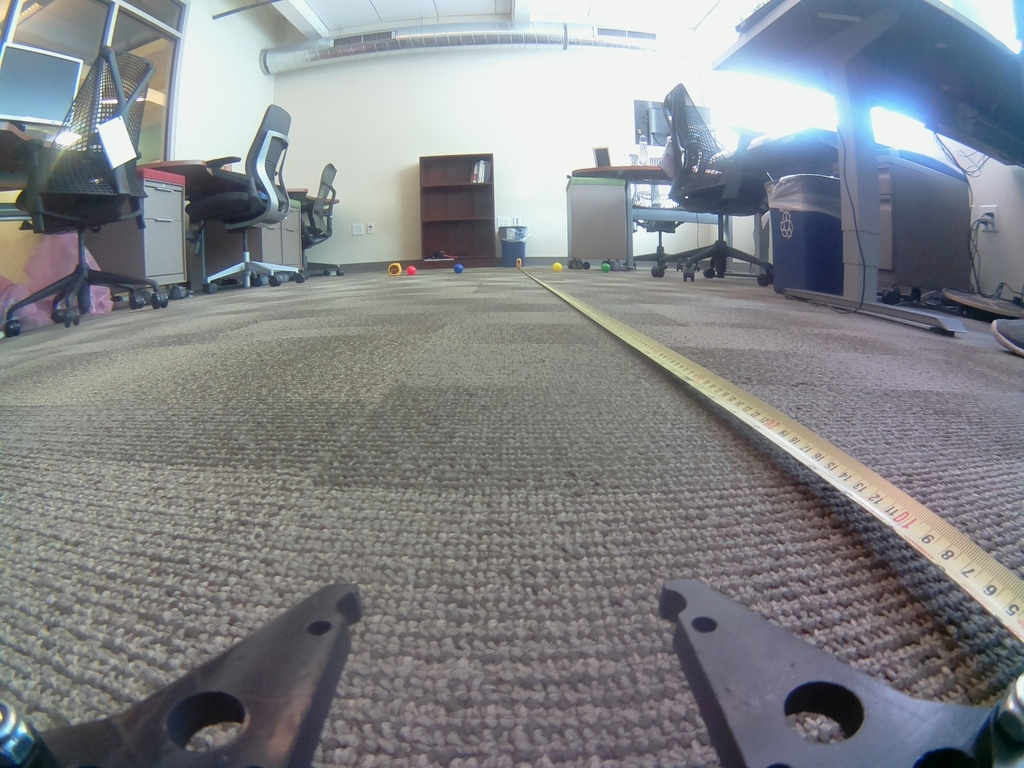ball: (452, 263, 463, 272)
